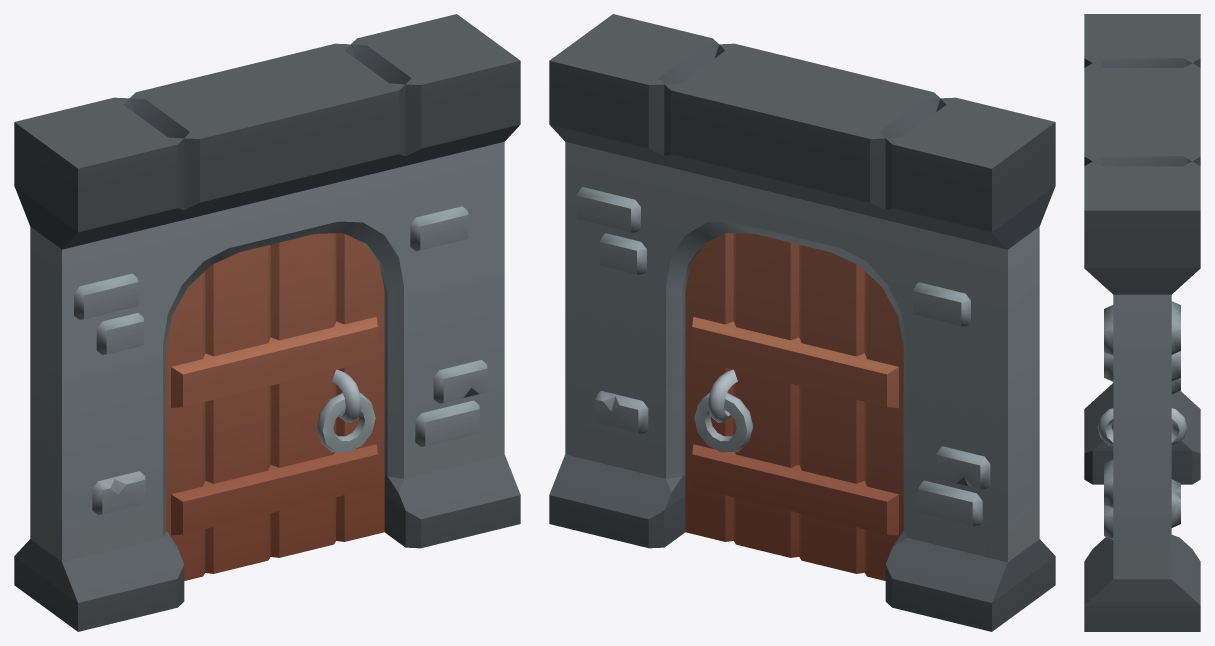
File: wall_doorway.gltf
3 renders of one model, left to right at view 1: azimuth 30°, elevation 25°; view 2: azimuth 150°, elevation 25°; view 3: azimuth 270°, elevation 25°, orthographic. The views are drawn at different scales.
Parts seen in each view (by area): view 1: wall_doorway, wall_doorway_door; view 2: wall_doorway, wall_doorway_door; view 3: wall_doorway, wall_doorway_door.
Part boxes in pixels (left/top/right/bottom): wall_doorway: left=14, top=14, right=520, bottom=631; wall_doorway_door: left=166, top=233, right=384, bottom=580; wall_doorway: left=549, top=14, right=1055, bottom=631; wall_doorway_door: left=685, top=233, right=903, bottom=580; wall_doorway: left=1084, top=14, right=1200, bottom=631; wall_doorway_door: left=1097, top=408, right=1187, bottom=445.
Bounding box in the file's own units: 4 × 4 × 1.
Materials: 1 (1 with a texture image).
